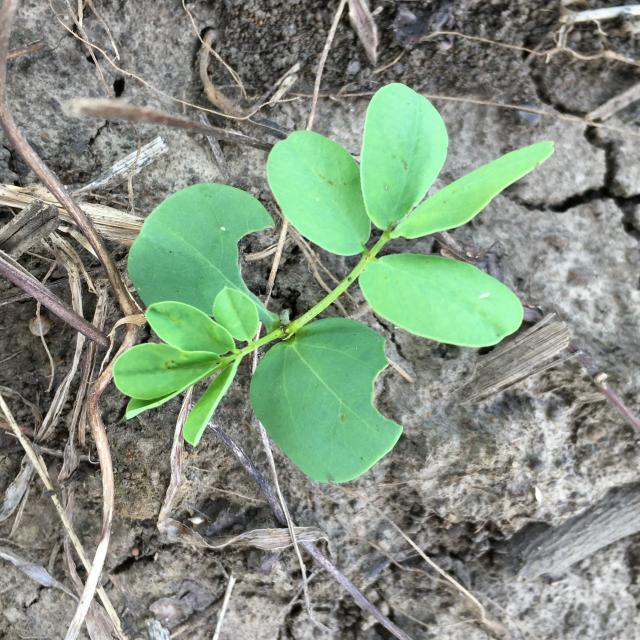Sicklepod: (113, 83, 555, 484)
